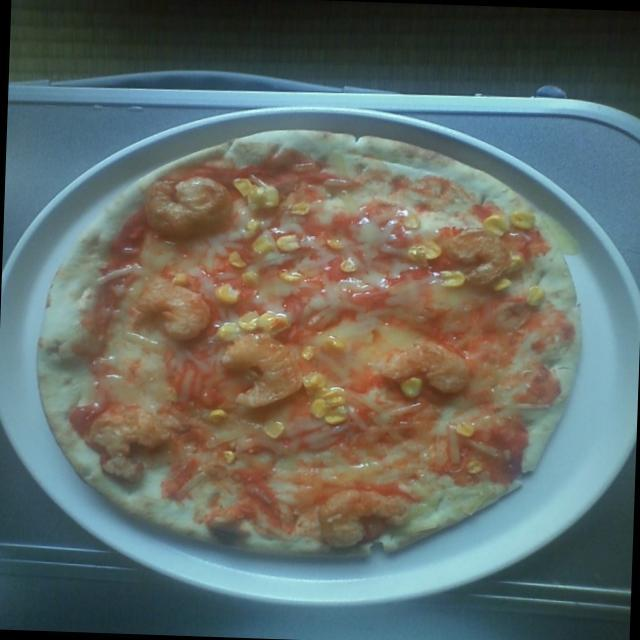Pizza: (22, 107, 583, 558)
